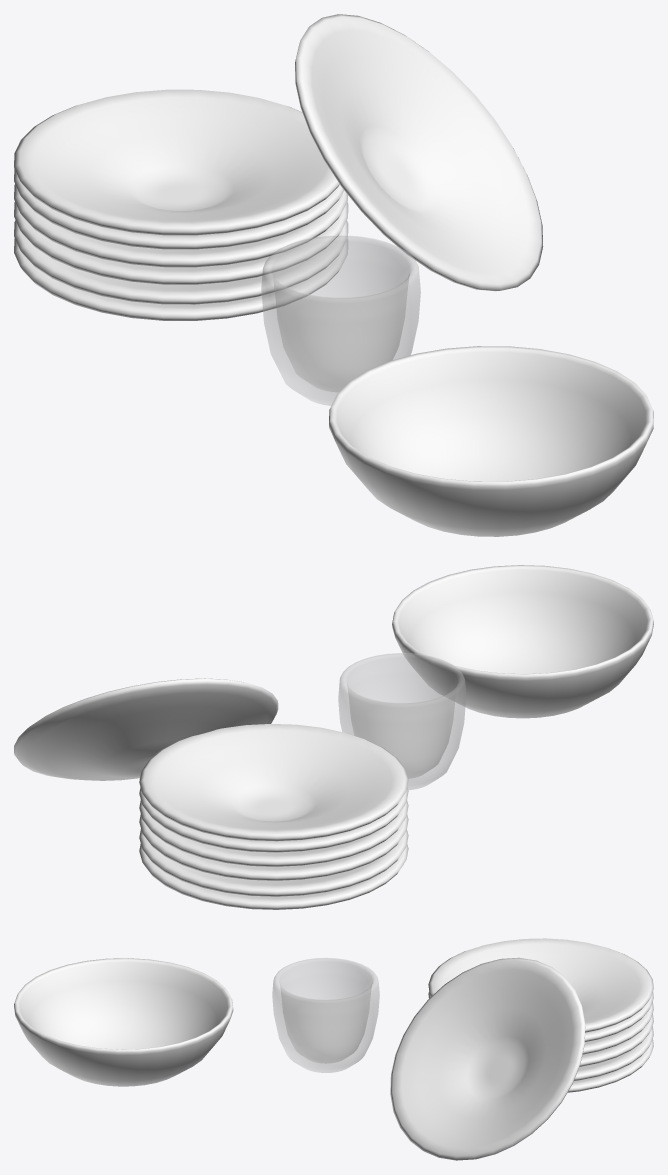
Rendered from basic_tableware.glb.
3 views of the same model, one above another, from view 1: azimuth 30°, elevation 25°; view 2: azimuth 150°, elevation 25°; view 3: azimuth 270°, elevation 25° (orthographic). The views are drawn at different scales.
Parts seen in each view (by area): view 1: bowl, plate.007, plate.006, glass, plate.002, plate.004, plate.003, plate, plate.005; view 2: bowl, plate.006, plate.007, glass, plate.002, plate.004, plate.003, plate, plate.005; view 3: plate.007, bowl, glass, plate.006, plate.002, plate, plate.003, plate.004, plate.005.
Part boxes in pixels (x1,y1,x2,y2): bowl: (329,346,653,536); plate.007: (295,14,543,291); plate.006: (14,89,339,235); glass: (261,235,420,405); plate.002: (14,220,348,304); plate.004: (14,184,348,267); plate.003: (14,202,348,284); plate: (14,238,348,320); plate.005: (14,168,344,249); bowl: (392,565,653,718); plate.006: (139,724,408,841); plate.007: (14,678,278,780); glass: (338,653,465,789); plate.002: (139,829,408,896); plate.004: (139,799,408,866); plate.003: (139,814,408,880); plate: (139,844,408,909); plate.005: (139,787,408,852); plate.007: (390,957,585,1160); bowl: (14,958,233,1086); glass: (272,958,379,1072); plate.006: (428,938,653,1032); plate.002: (574,1026,653,1080); plate: (568,1038,653,1092); plate.003: (579,1013,653,1066); plate.004: (582,1001,653,1054); plate.005: (428,991,653,1041).
Size of the model in its own units: 0.6235 by 0.2876 by 1.09.
2 materials, 1 textured.
